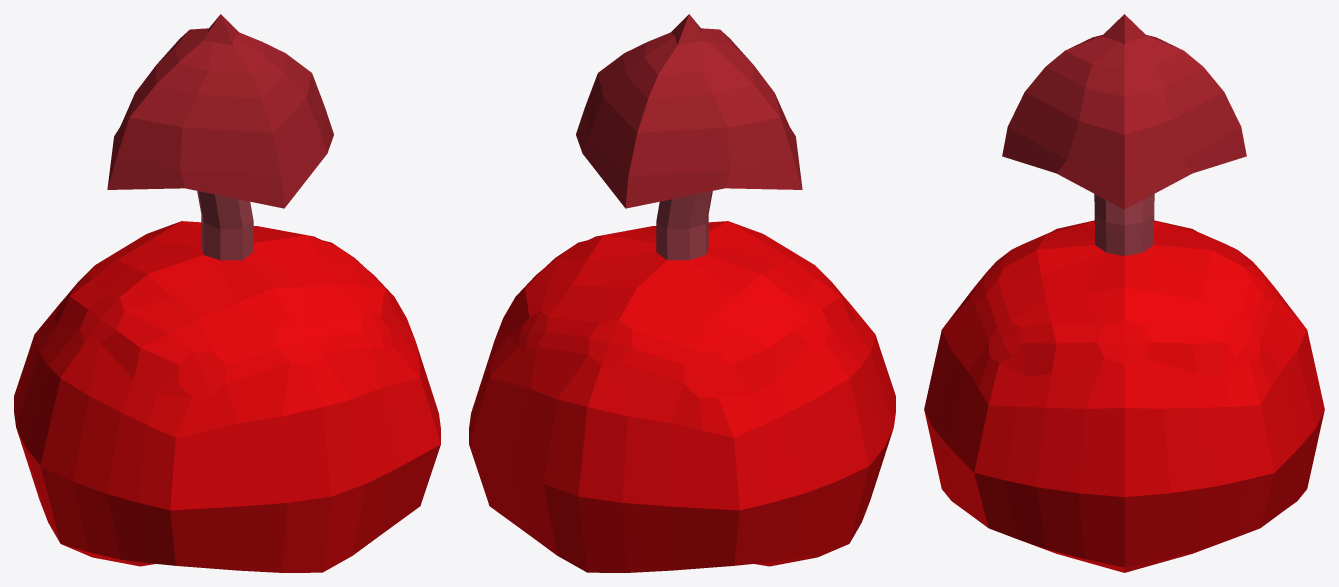
Rendered from Slime_Teste.fbx.
The picture shows the model from 3 angles, left to right: view 1: azimuth 30°, elevation 25°; view 2: azimuth 150°, elevation 25°; view 3: azimuth 270°, elevation 25°; orthographic projection. The views are drawn at different scales.
Parts seen in each view (by area): view 1: Cubo.001; view 2: Cubo.001; view 3: Cubo.001.
Boxes of the visible parts, x1=… form: Cubo.001: x1=14, y1=14, x2=440, y2=572; Cubo.001: x1=469, y1=14, x2=895, y2=572; Cubo.001: x1=924, y1=14, x2=1324, y2=572.
Bounding box in the file's own units: 306 × 417 × 295.
